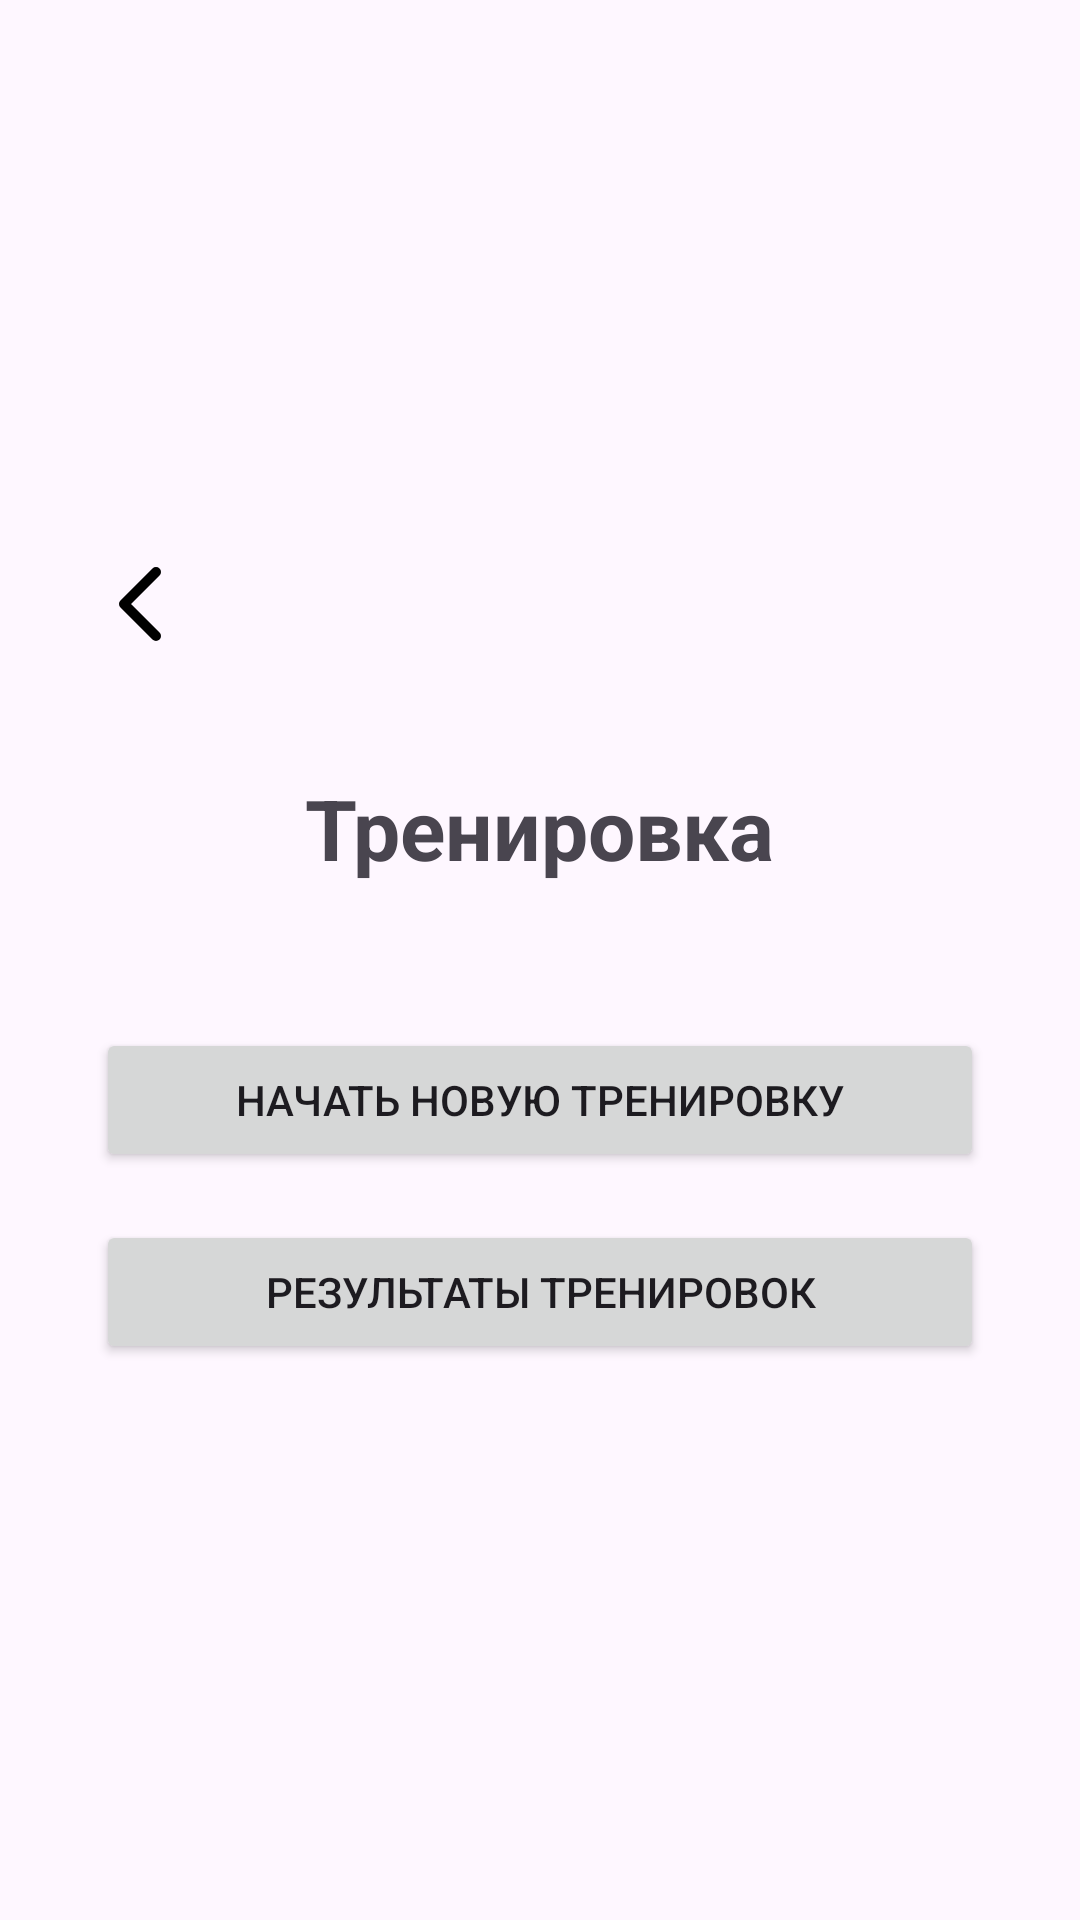

Screen size 1080w x 1920h. Icon name, then its center in pixels as point (x, y):
Назад: point (140, 604)
